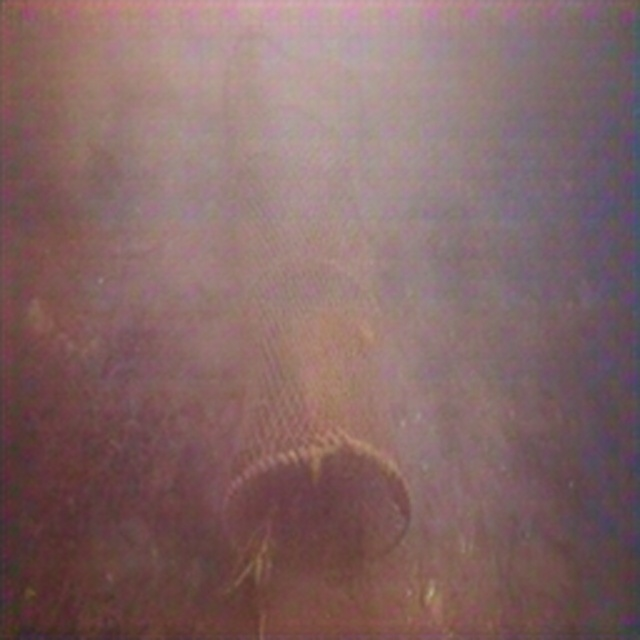mine: (218, 27, 413, 584)
